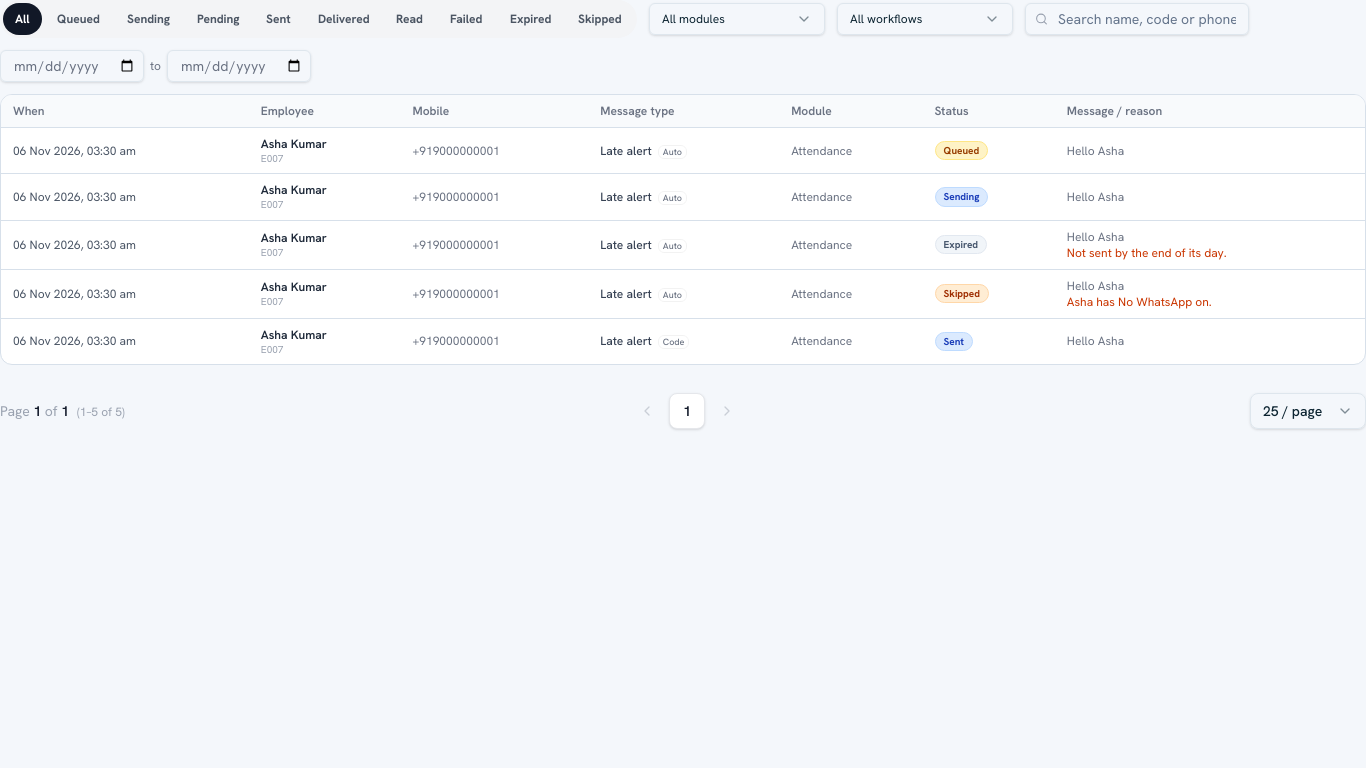
Test: WhatsApp Control messages and the sending queue › opens a skipped message with the reason labelled as such
The width and height of the screenshot is (1366, 768).
Click the row with test id "whatsapp-message-row" that starts with "06 Nov 2026, 03:30 am" at (683, 294), box top-left (1, 269), bottom-right (1365, 318)
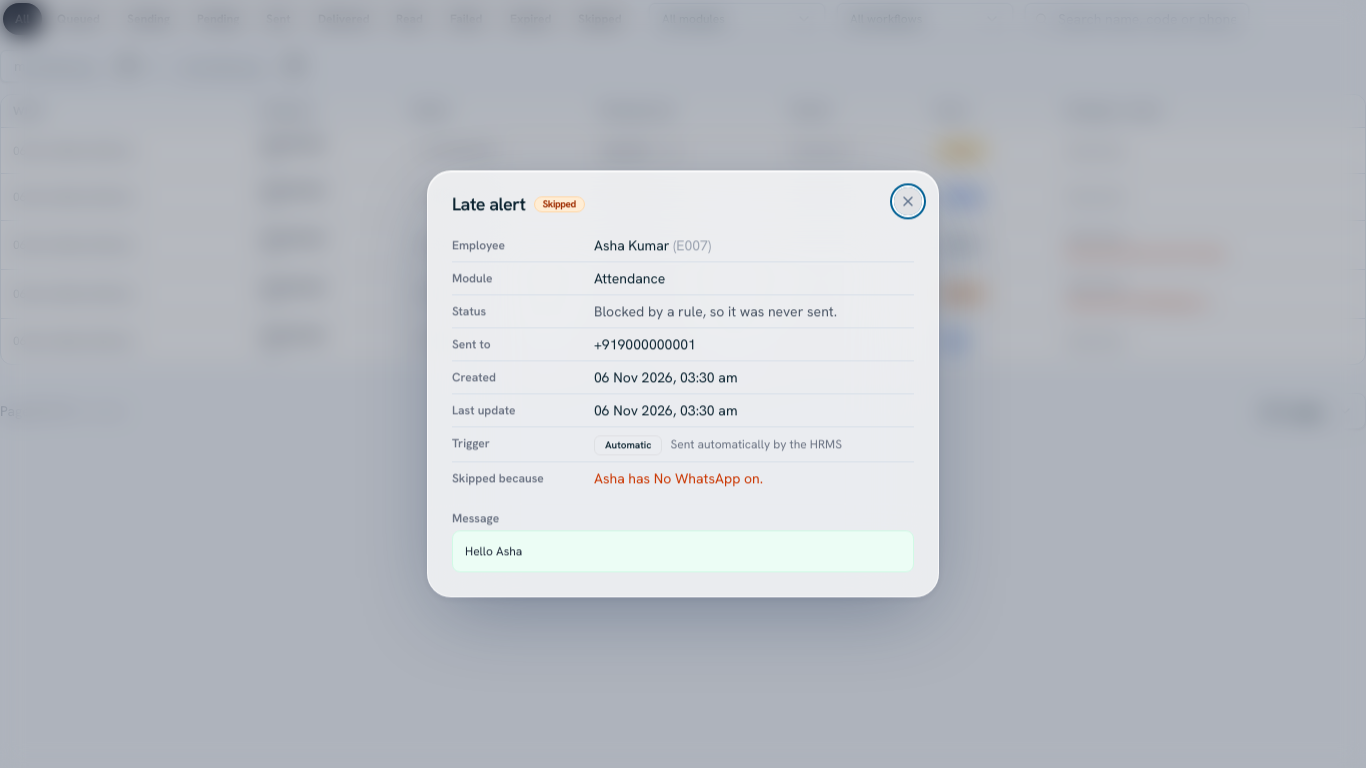
expect the dialog shows "Skipped because": met, box top-left (452, 471), bottom-right (544, 487)
expect the dialog shows "Asha has No WhatsApp on.": met, box top-left (594, 470), bottom-right (763, 488)
expect the dialog shows "Blocked by a rule, so it was never sent.": met, box top-left (594, 302), bottom-right (837, 320)
